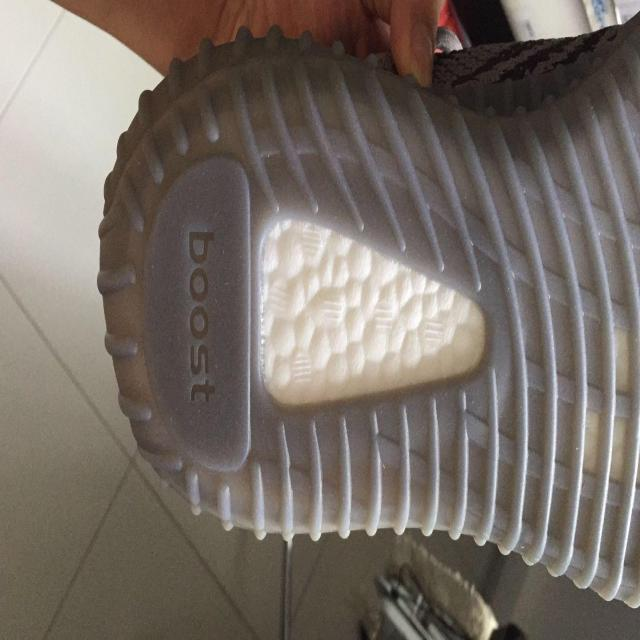shoe: (95, 25, 640, 603)
